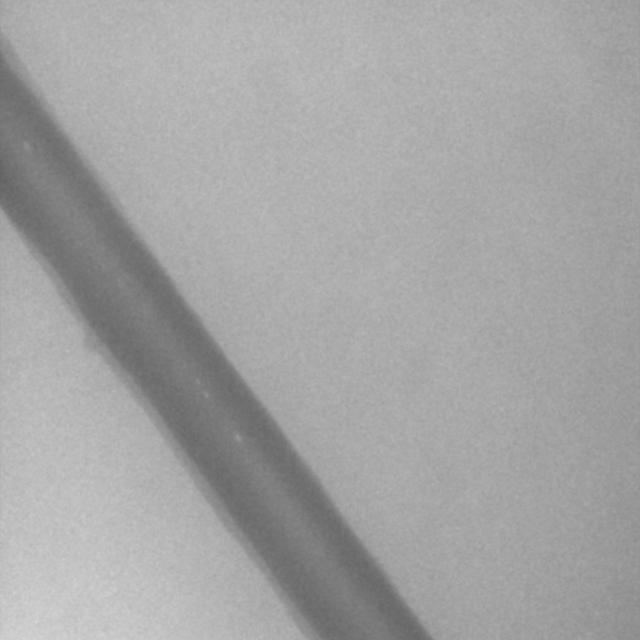air hole: (231, 429, 244, 445), (19, 135, 31, 151)
